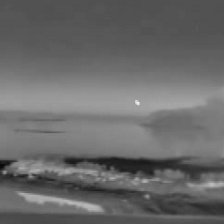Target: (134, 100, 140, 106)
